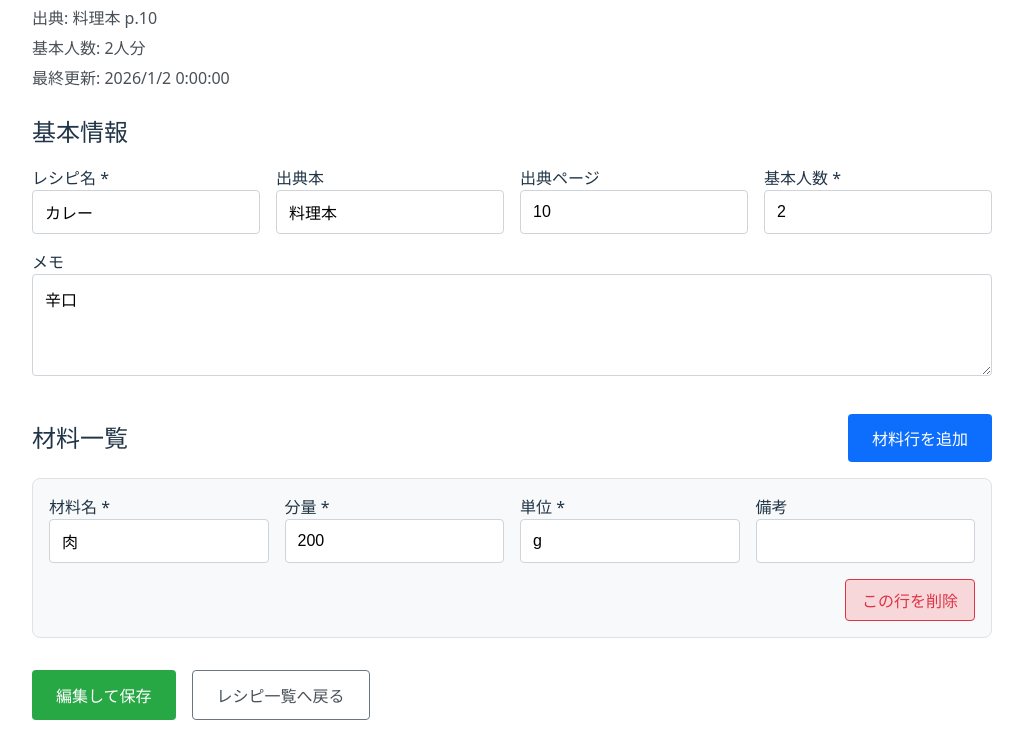
it: RecipeDetailPage › 有効な入力の更新に失敗した場合はAPIエラーを表示する
The image size is (1024, 744).
(page scrolled)
What coordinates should you click on to do the following:
click the button "編集して保存"
I would click on:
 (104, 694)
Its box is left=32, top=670, right=176, bottom=720.
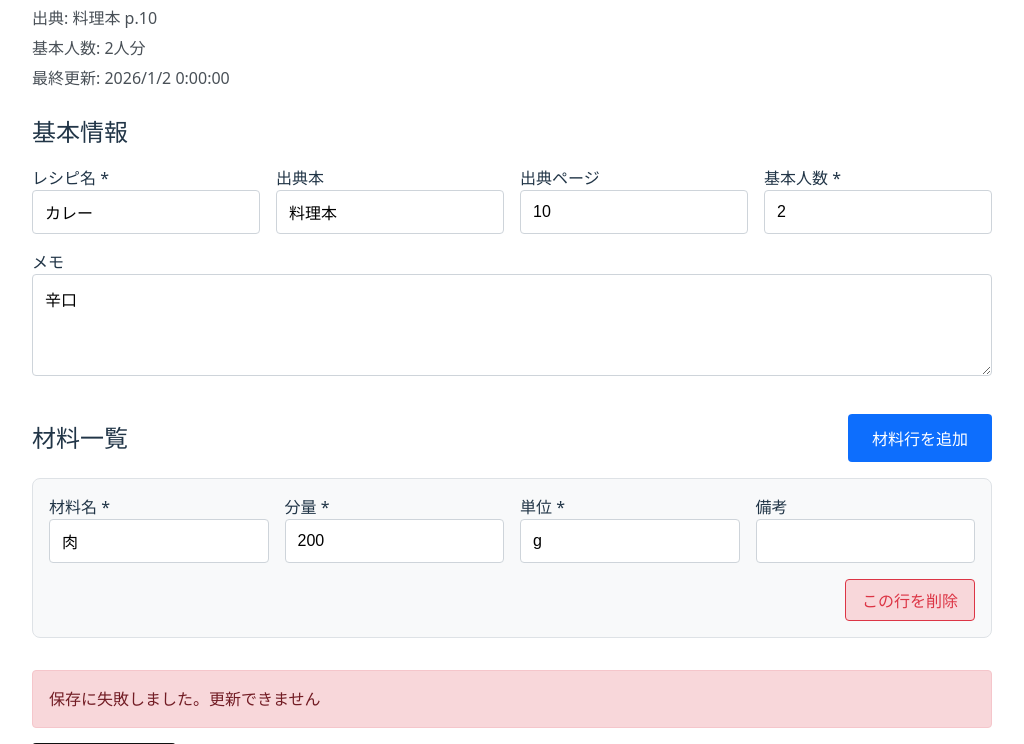
Now the text "保存に失敗しました。更新できません" is shown, box left=32, top=670, right=992, bottom=728
